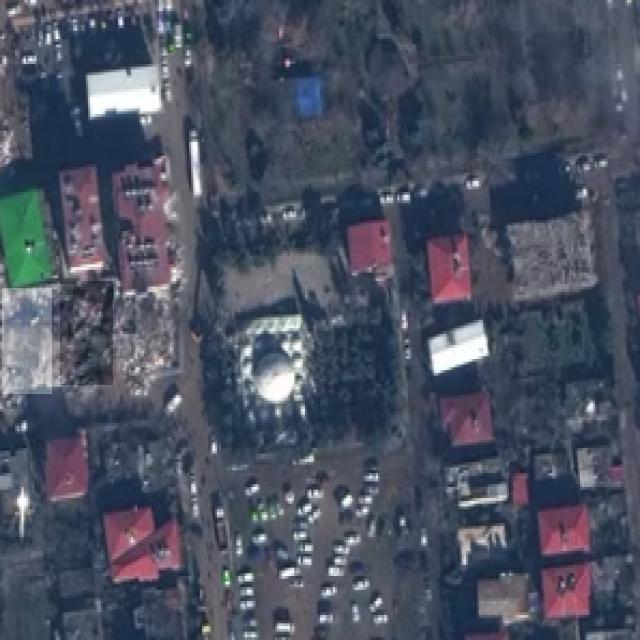Rubble: (118, 289, 181, 383), (60, 281, 113, 385), (2, 288, 52, 394)
